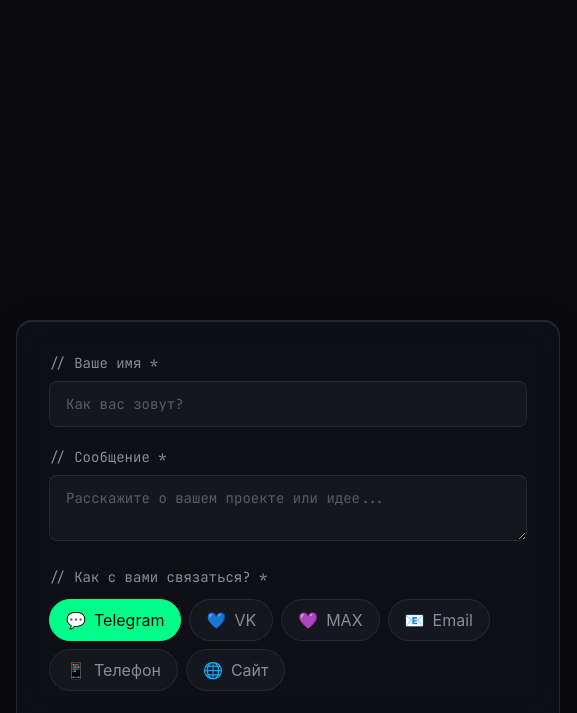
Test: Contact Component › shows contact input fields for selected channels
Note: Add email channel
Click the button "📧 Email". click: [439, 620]
box: [388,599,490,641]
(page scrolled)
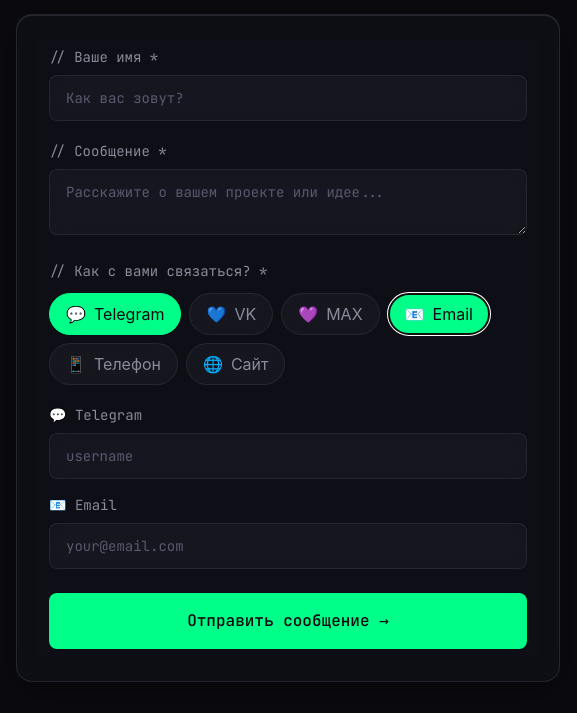
expect the field with placeholder "your@email.com" is shown: met, box [49,523,527,569]
